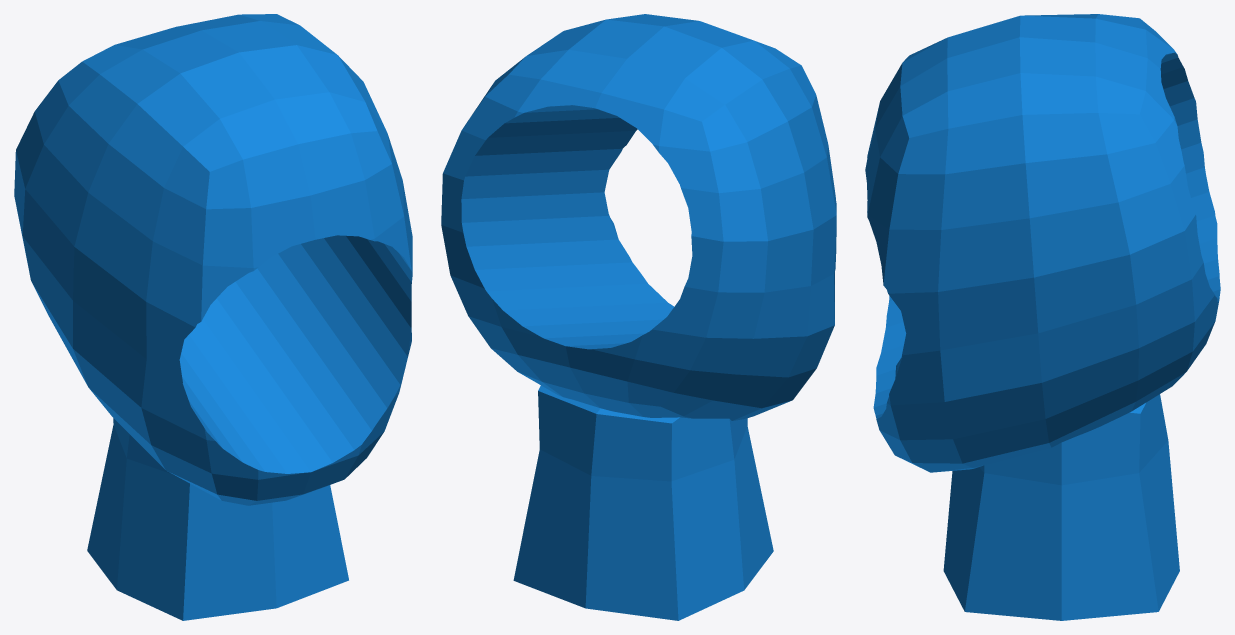
File: head_empty.fbx
3 views of the same model, side by side, from view 1: azimuth 30°, elevation 25°; view 2: azimuth 150°, elevation 25°; view 3: azimuth 270°, elevation 25° (orthographic).
Parts seen in each view (by area): view 1: NECK; view 2: NECK; view 3: NECK.
Boxes of the visible parts, <box> form: NECK: <box>14,14,412,620</box>; NECK: <box>441,14,836,620</box>; NECK: <box>865,14,1220,620</box>.
Size of the model in its own units: 0.2961 by 0.4695 by 0.2834.
